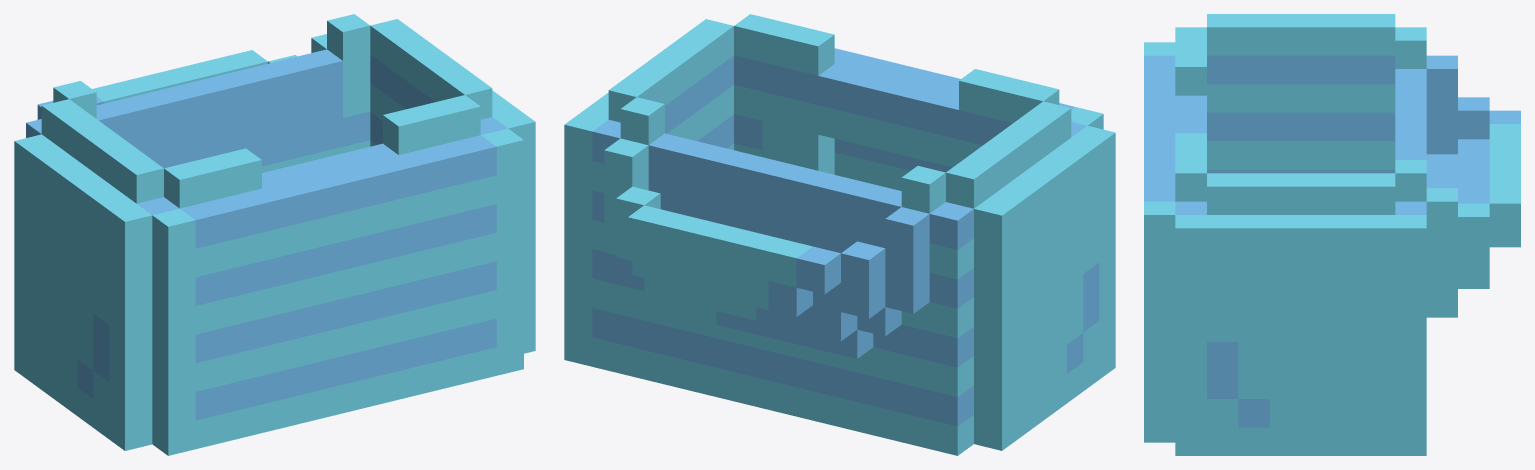
File: accessories_clothes_coat.glb
3 views of the same model, side by side, from view 1: azimuth 30°, elevation 25°; view 2: azimuth 150°, elevation 25°; view 3: azimuth 270°, elevation 25° (orthographic). The views are drawn at different scales.
Visible parts, largest first — view 1: model_0; view 2: model_0; view 3: model_0.
Part boxes in pixels (box(x1,y1,x2,y2)): model_0: box(14, 14, 535, 455); model_0: box(564, 14, 1115, 455); model_0: box(1144, 14, 1520, 455).
Bounding box in the file's own units: 15 × 9 × 12.
